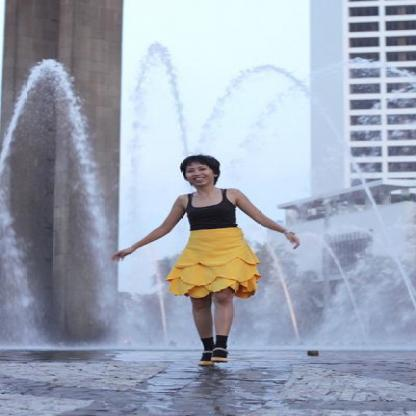shirt: (187, 192, 237, 230)
skirt: (166, 228, 259, 298)
